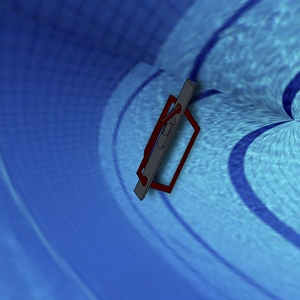submarine: (107, 67, 225, 212)
